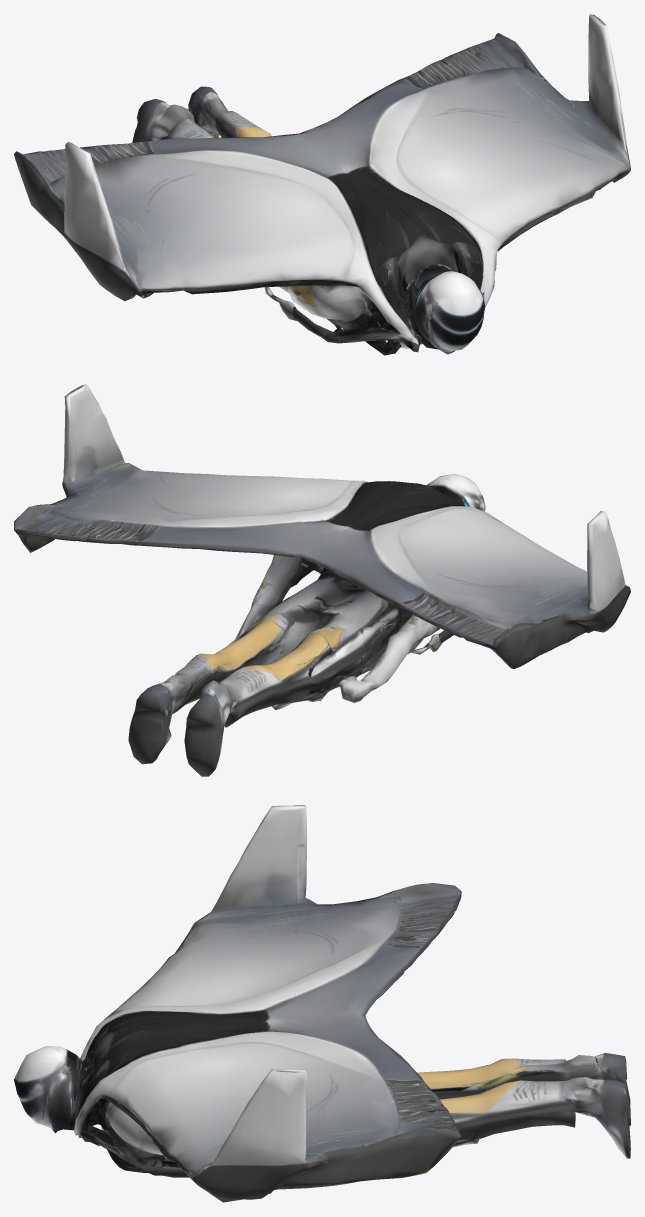
File: Futuristic_Flight_Sui_0412094732_texture.glb
3 views of the same model, one above another, from view 1: azimuth 30°, elevation 25°; view 2: azimuth 150°, elevation 25°; view 3: azimuth 270°, elevation 25° (orthographic). The views are drawn at different scales.
Bounding box in the file's own units: 2 × 0.7777 × 1.94.
Materials: 1 (1 with a texture image).
